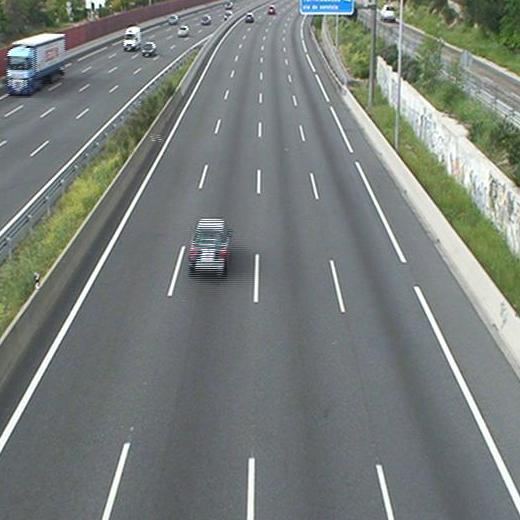car: (189, 219, 229, 265), (244, 13, 254, 23), (266, 6, 276, 13)
